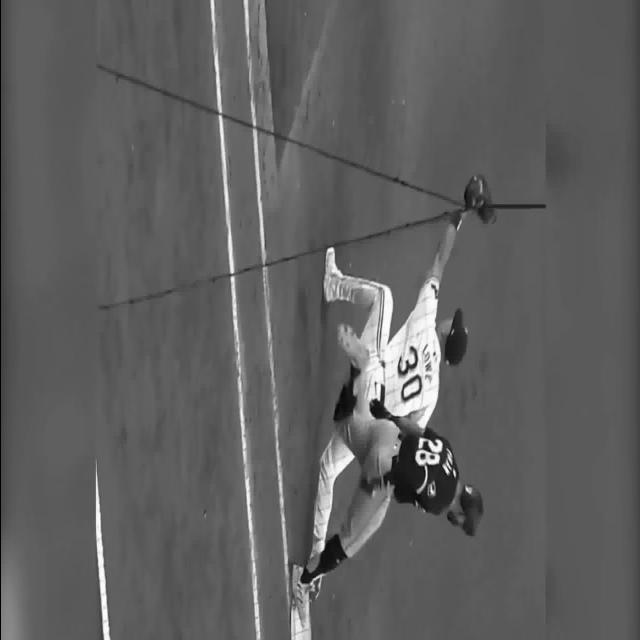base: (289, 602, 311, 640)
baseball_glove: (464, 173, 495, 224)
shoe: (289, 565, 310, 640), (336, 325, 369, 371), (321, 247, 341, 302), (308, 576, 321, 602)
